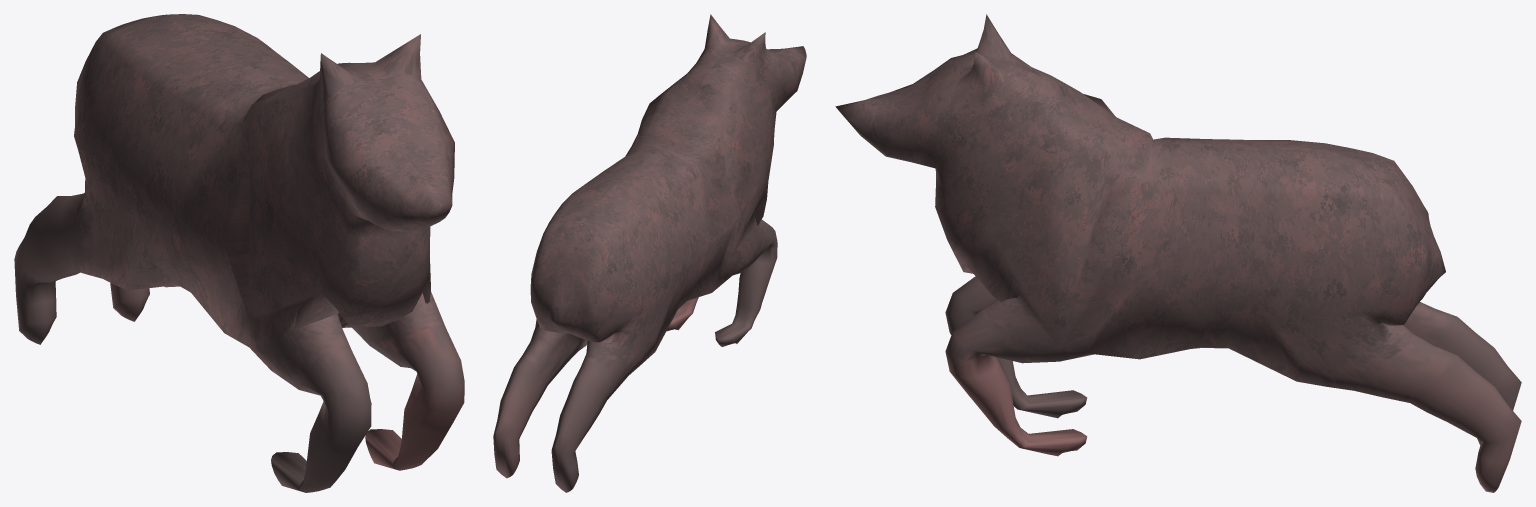
The model's file is piesblend_000013.obj.
The picture shows the model from 3 angles, left to right: view 1: azimuth 30°, elevation 25°; view 2: azimuth 150°, elevation 25°; view 3: azimuth 270°, elevation 25°; orthographic projection. The views are drawn at different scales.
Parts seen in each view (by area): view 1: Cube; view 2: Cube; view 3: Cube.
Boxes of the visible parts, <box> form: Cube: <box>14,14,464,492</box>; Cube: <box>493,14,806,492</box>; Cube: <box>835,14,1521,492</box>.
Bounding box in the file's own units: 2.55 × 6.55 × 9.37.
1 material, 1 textured.
